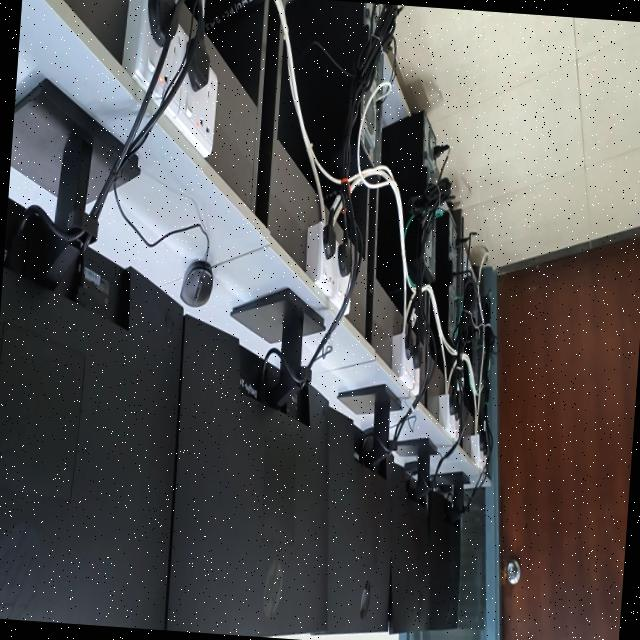Cpu: (275, 0, 393, 214), (375, 109, 438, 306), (182, 0, 271, 38), (446, 213, 463, 356)
Monitor: (0, 80, 183, 630), (163, 289, 331, 635), (327, 385, 400, 632), (390, 439, 436, 632), (424, 472, 468, 629)
Mouse: (180, 261, 213, 307), (401, 460, 417, 477), (431, 484, 451, 497)
